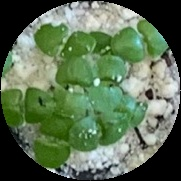Basil: (113, 21, 164, 63), (70, 114, 124, 151), (54, 59, 90, 112), (0, 88, 51, 125), (34, 113, 67, 170), (37, 25, 93, 56), (96, 60, 122, 111)
